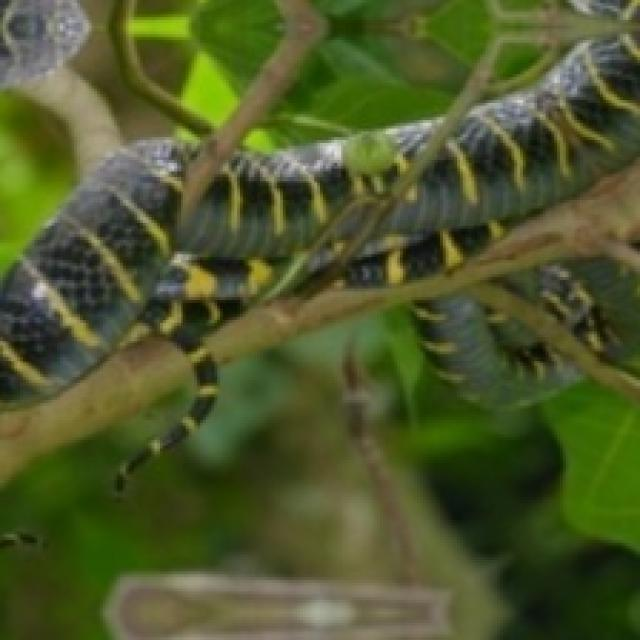mangrove cat snake: (0, 121, 433, 489), (340, 39, 640, 290), (411, 294, 579, 408), (540, 265, 612, 355)
